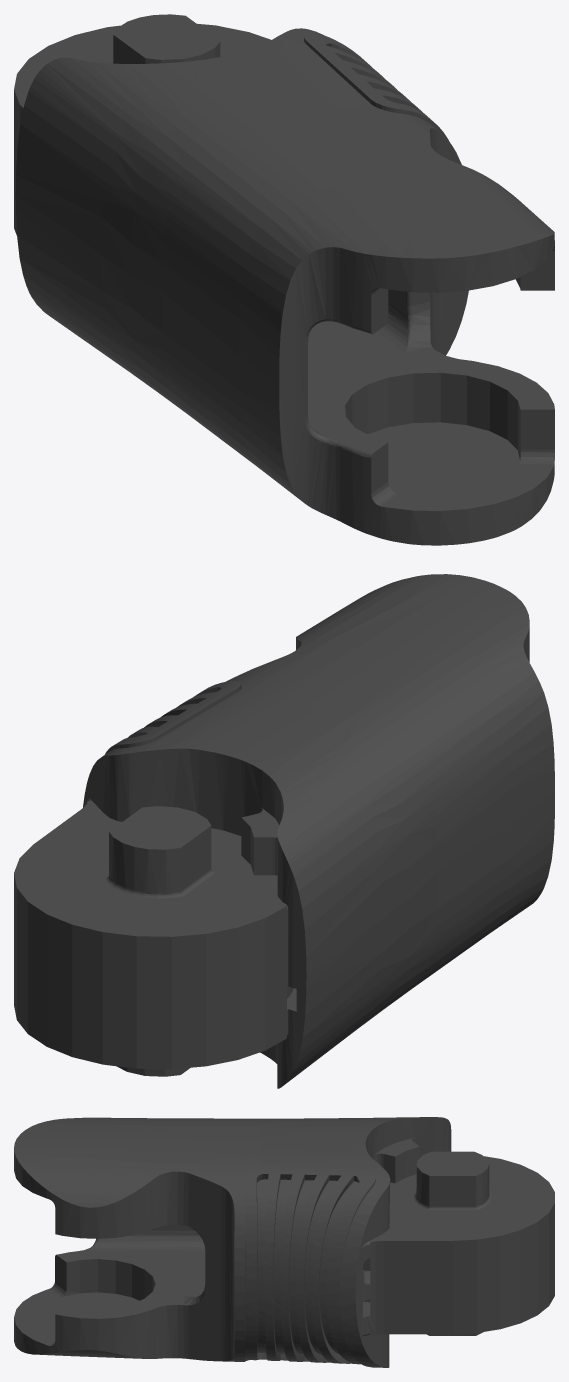
The model's file is lh_middle_middle_vis.obj.
3 renders of one model, top to bottom at view 1: azimuth 30°, elevation 25°; view 2: azimuth 150°, elevation 25°; view 3: azimuth 270°, elevation 25°, orthographic. The views are drawn at different scales.
Parts seen in each view (by area): view 1: lh_middle_middle; view 2: lh_middle_middle; view 3: lh_middle_middle.
Part boxes in pixels (x1,y1,x2,y2): lh_middle_middle: [14, 14, 554, 545]; lh_middle_middle: [14, 574, 554, 1088]; lh_middle_middle: [14, 1117, 554, 1367].
Bounding box in the file's own units: 0.0162 × 0.015 × 0.0368.
1 material, 1 textured.
